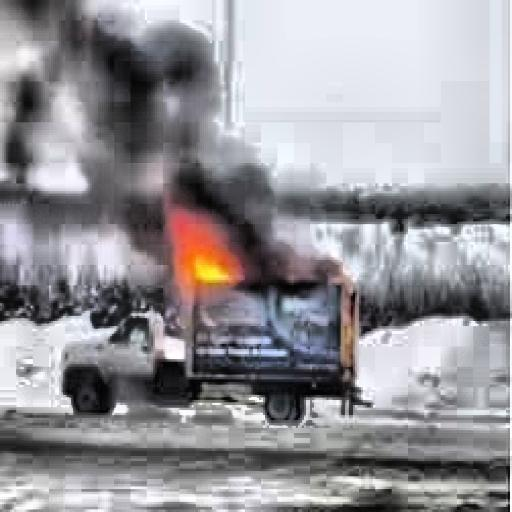fire: (167, 209, 255, 295)
